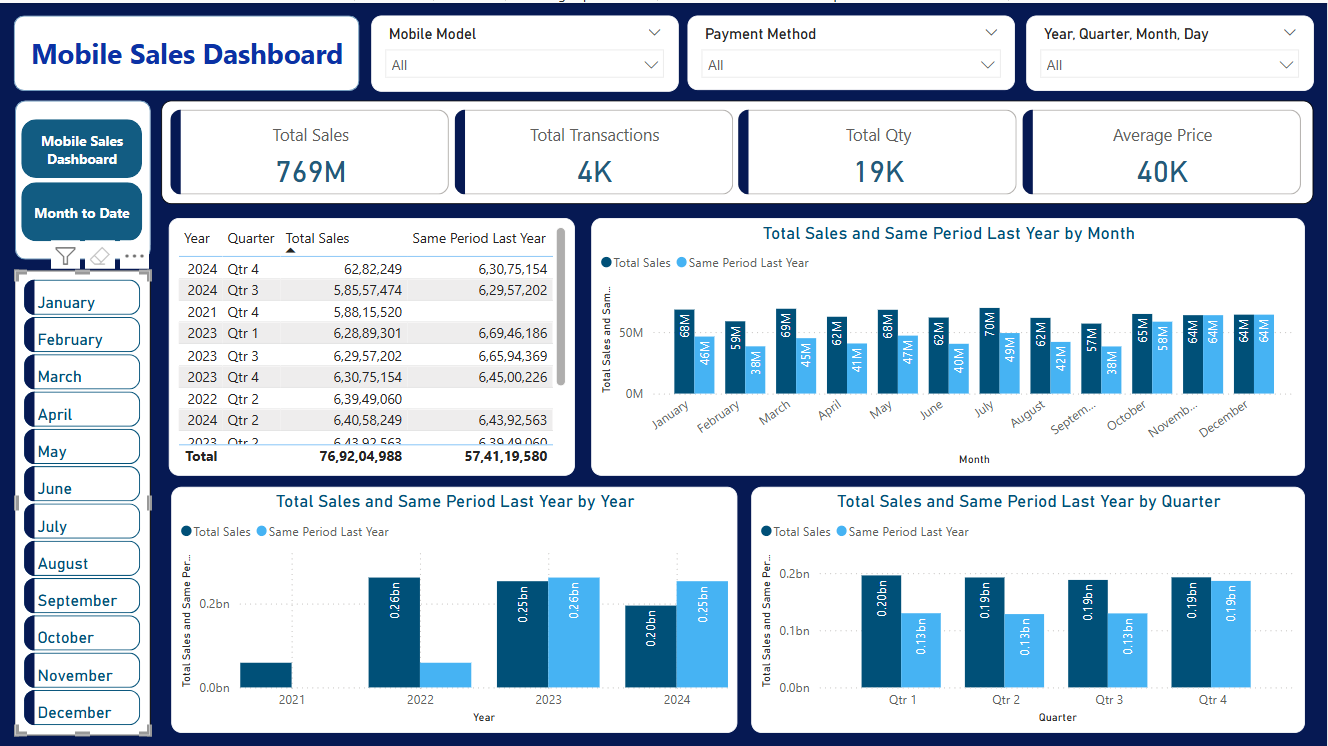

The page's visual inventory and layout, read from the dashboard file:
{"tool":"powerbi","page":{"name":"Same Period Last Year","canvas":[1280,720],"ordinal":2},"visuals":[{"type":"group","id":"g1","title":"Group 1","box":[13.3,12.1,334.2,73.6],"z":0},{"type":"shape","box":[13.3,12.1,333.8,73.2],"z":0,"group":"g1"},{"type":"shape","box":[14.3,94,131,153.6],"z":1000},{"type":"cardVisual","fields":{"Data":["Mobile Sales Data.Total Sales","Mobile Sales Data.Total Transactions","Mobile Sales Data.Total Qty","Mobile Sales Data.Average Price"]},"box":[156,94,1111.9,100],"z":2000},{"type":"slicer","fields":{"Values":["Custom Calender.Date.Variation.Date Hierarchy.Year","Custom Calender.Date.Variation.Date Hierarchy.Quarter","Custom Calender.Date.Variation.Date Hierarchy.Month","Custom Calender.Date.Variation.Date Hierarchy.Day"]},"box":[990.5,11.9,277.4,72.6],"z":3000},{"type":"slicer","fields":{"Values":["Mobile Sales Data.Payment Method"]},"box":[663.5,12.1,316.1,72.4],"z":4000},{"type":"slicer","fields":{"Values":["Mobile Sales Data.Mobile Model"]},"box":[358.3,11.9,296.4,73.8],"z":5000},{"type":"textbox","box":[20.3,25.7,320.1,45.9],"z":6000},{"type":"tableEx","fields":{"Values":["Custom Calender.Date.Variation.Date Hierarchy.Year","Custom Calender.Date.Variation.Date Hierarchy.Quarter","Mobile Sales Data.Total Sales","Mobile Sales Data.Same Period Last Year"]},"box":[162.9,207.5,392.1,248.5],"z":8000},{"type":"clusteredColumnChart","fields":{"Category":["Custom Calender.Date.Variation.Date Hierarchy.Year","Custom Calender.Date.Variation.Date Hierarchy.Quarter"],"Y":["Mobile Sales Data.Total Sales","Mobile Sales Data.Same Period Last Year"]},"box":[165.3,466.9,546.5,237.7],"z":9000},{"type":"clusteredColumnChart","fields":{"Category":["Custom Calender.Date.Variation.Date Hierarchy.Year","Custom Calender.Date.Variation.Date Hierarchy.Quarter"],"Y":["Mobile Sales Data.Total Sales","Mobile Sales Data.Same Period Last Year"]},"box":[725.1,466.9,534.5,237.7],"z":10000},{"type":"clusteredColumnChart","fields":{"Y":["Mobile Sales Data.Total Sales","Mobile Sales Data.Same Period Last Year"],"Category":["Custom Calender.Date.Variation.Date Hierarchy.Month"]},"box":[570.6,207.5,688.9,248.5],"z":11000},{"type":"pageNavigator","box":[20.5,112.2,117,118.2],"z":12000},{"type":"advancedSlicerVisual","fields":{"Values":["Custom Calender.Date.Variation.Date Hierarchy.Month"]},"box":[14.3,258.3,131,448.8],"z":12001}]}

Visuals, with their boxes in screenshot pixels (x1, y1, x2, y2), scaled from the page's 1280x720 canvas onto the 1328x746 screenshot:
"Group 1" group: <bbox>14, 13, 361, 89</bbox>
shape: <bbox>14, 13, 360, 88</bbox>
shape: <bbox>15, 97, 151, 257</bbox>
cardVisual - Mobile Sales Data.Total Sales x Mobile Sales Data.Total Transactions: <bbox>162, 97, 1315, 201</bbox>
slicer - Custom Calender.Date.Variation.Date Hierarchy.Year x Custom Calender.Date.Variation.Date Hierarchy.Quarter: <bbox>1028, 12, 1315, 88</bbox>
slicer - Mobile Sales Data.Payment Method: <bbox>688, 13, 1016, 88</bbox>
slicer - Mobile Sales Data.Mobile Model: <bbox>372, 12, 679, 89</bbox>
textbox: <bbox>21, 27, 353, 74</bbox>
tableEx - Custom Calender.Date.Variation.Date Hierarchy.Year x Custom Calender.Date.Variation.Date Hierarchy.Quarter: <bbox>169, 215, 576, 472</bbox>
clusteredColumnChart - Custom Calender.Date.Variation.Date Hierarchy.Year x Custom Calender.Date.Variation.Date Hierarchy.Quarter: <bbox>171, 484, 738, 730</bbox>
clusteredColumnChart - Custom Calender.Date.Variation.Date Hierarchy.Year x Custom Calender.Date.Variation.Date Hierarchy.Quarter: <bbox>752, 484, 1307, 730</bbox>
clusteredColumnChart - Mobile Sales Data.Total Sales x Mobile Sales Data.Same Period Last Year: <bbox>592, 215, 1307, 472</bbox>
pageNavigator: <bbox>21, 116, 143, 239</bbox>
advancedSlicerVisual - Custom Calender.Date.Variation.Date Hierarchy.Month: <bbox>15, 268, 151, 733</bbox>
